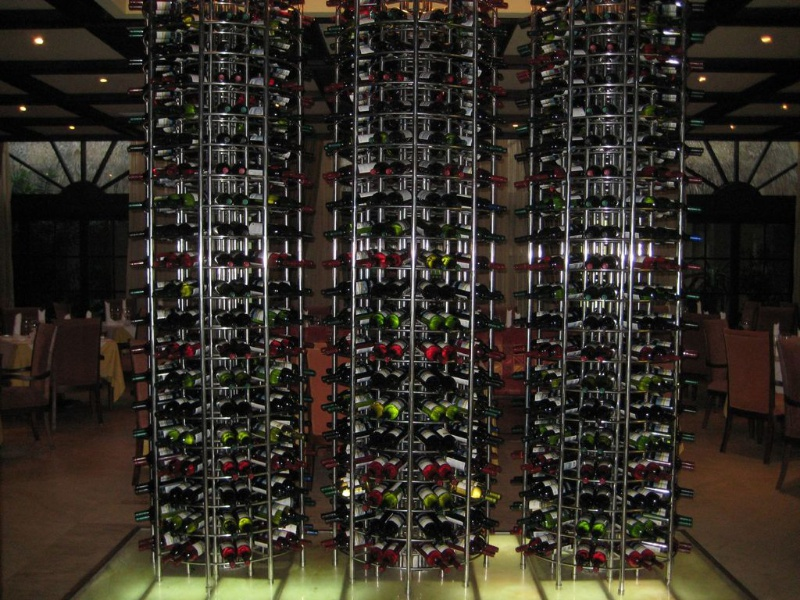wine: (117, 2, 317, 582), (317, 5, 505, 589), (519, 7, 701, 600)
